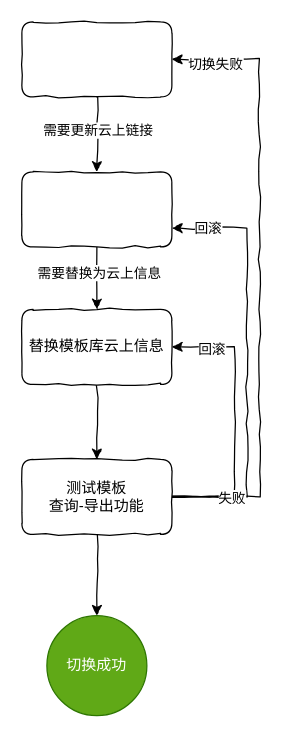
The diagram is 291 pixels wide and 738 high, and some of its shapes have lost their labels. The centre of each missing label's shape, as x and y in pixels:
"发布切换公告" goes at pixel 96 59.
"灰度生产dremel服务" goes at pixel 96 209.
